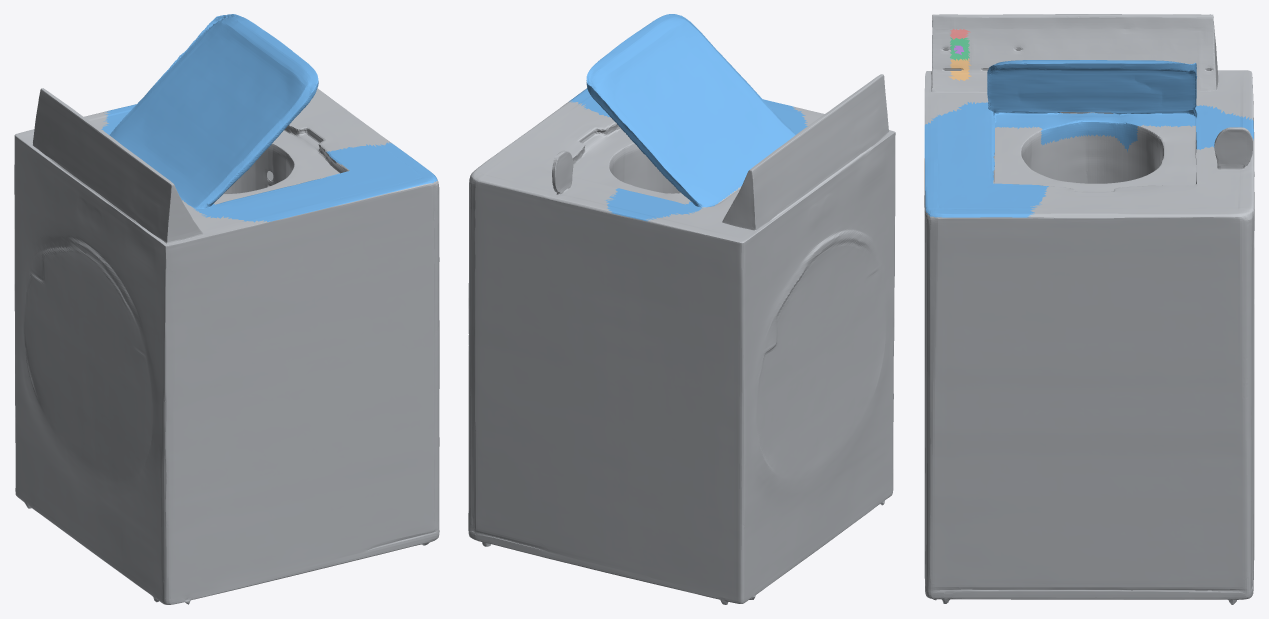
File: parts.glb
The picture shows the model from 3 angles, left to right: view 1: azimuth 30°, elevation 25°; view 2: azimuth 150°, elevation 25°; view 3: azimuth 270°, elevation 25°; orthographic projection. The views are drawn at different scales.
Visible parts, largest first — view 1: visual_0_0, visual_1_0; view 2: visual_0_0, visual_1_0; view 3: visual_0_0, visual_1_0.
Part boxes in pixels (bbox=[...]): visual_0_0: bbox=[14, 88, 439, 604]; visual_1_0: bbox=[101, 14, 437, 222]; visual_0_0: bbox=[468, 74, 895, 604]; visual_1_0: bbox=[569, 14, 807, 221]; visual_0_0: bbox=[924, 14, 1254, 604]; visual_1_0: bbox=[924, 60, 1253, 217].
Size of the model in its own units: 0.5982 by 0.9522 by 0.5697.
